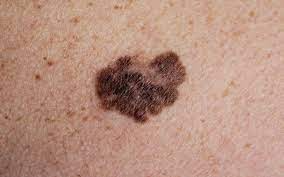Melanoma: (94, 52, 188, 124)
